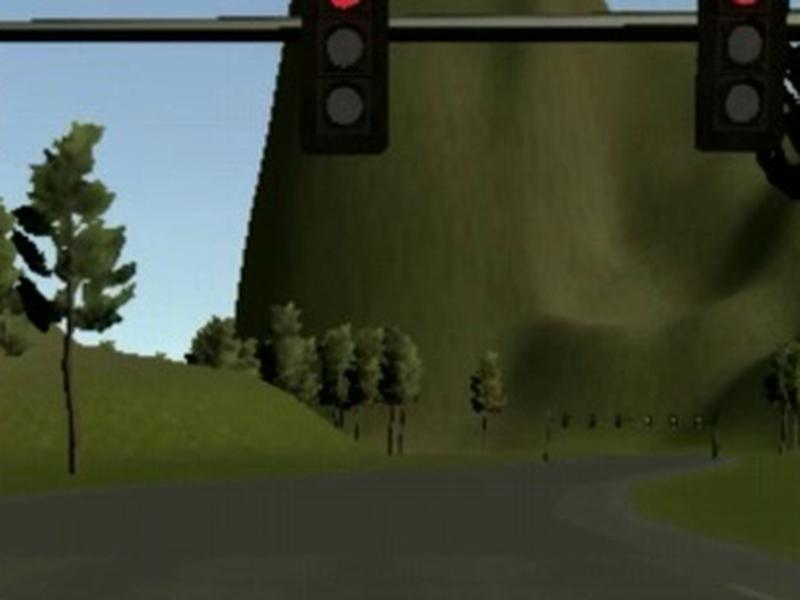Red: (692, 1, 791, 150), (299, 1, 390, 154)
